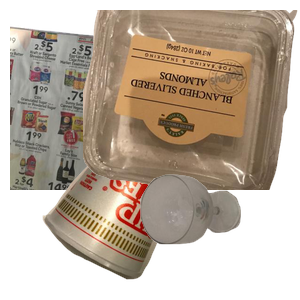glass: (138, 172, 300, 300)
paper: (10, 21, 222, 201)
plastic: (83, 10, 300, 190)
trash: (40, 121, 221, 300)
